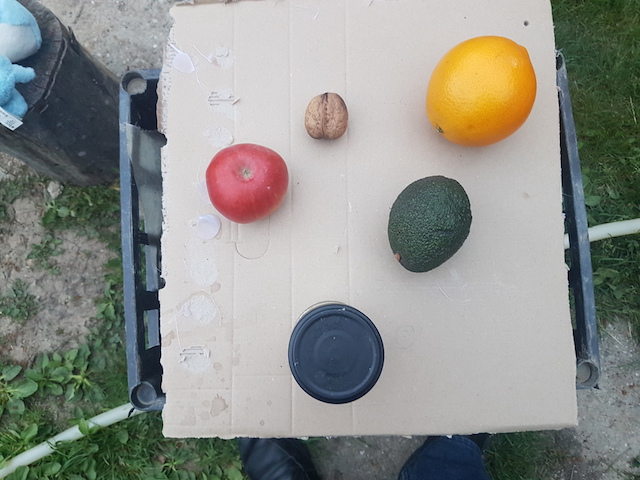apple: (203, 138, 295, 223)
avocado: (382, 171, 477, 275)
nut: (300, 90, 350, 142)
orange: (426, 32, 539, 153)
recipient: (288, 303, 384, 406)
